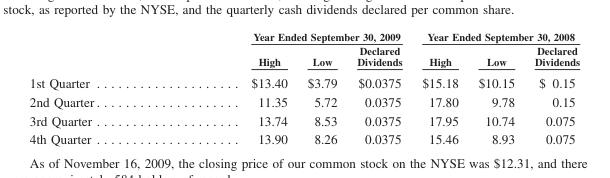table: (28, 28, 579, 146)
table column: (28, 28, 174, 146), (174, 28, 296, 146), (346, 28, 411, 146), (411, 28, 467, 146), (467, 28, 523, 146), (523, 28, 579, 146), (296, 28, 346, 146)
table column header: (28, 28, 579, 71)
table row: (28, 43, 579, 71), (28, 71, 579, 91), (28, 91, 579, 110), (28, 110, 579, 128), (28, 128, 579, 146), (28, 28, 579, 43)
table spanning cell: (174, 28, 411, 43), (411, 28, 579, 43)
